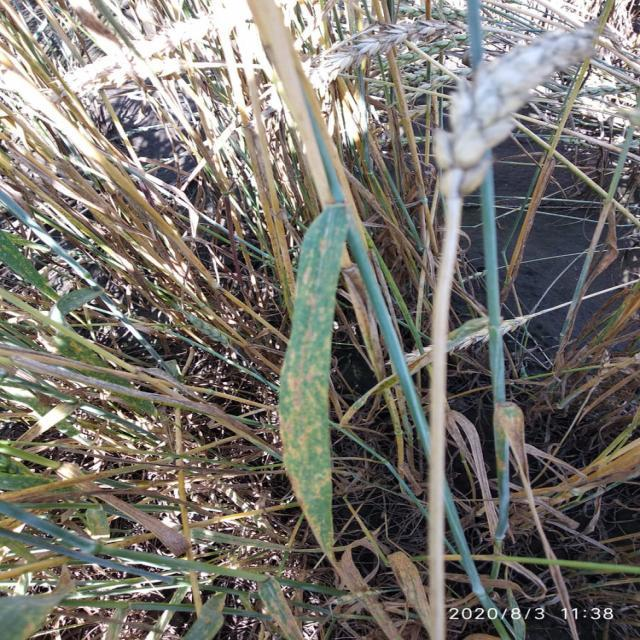wheat-septoria: (278, 172, 348, 561)
